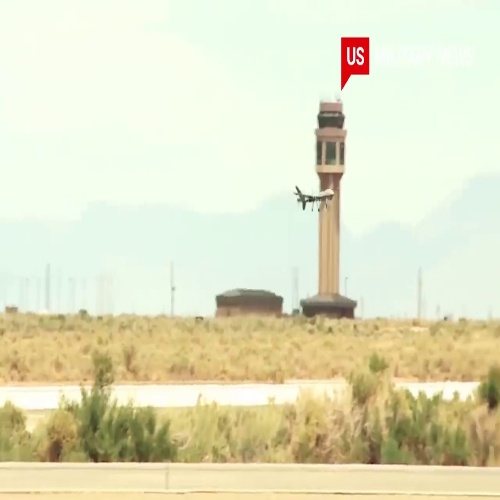uav: (292, 184, 334, 211)
